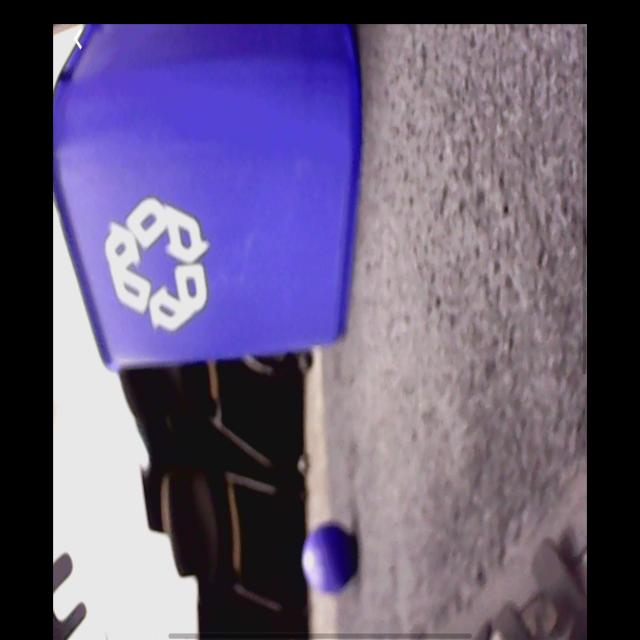ball: (304, 524, 356, 592)
